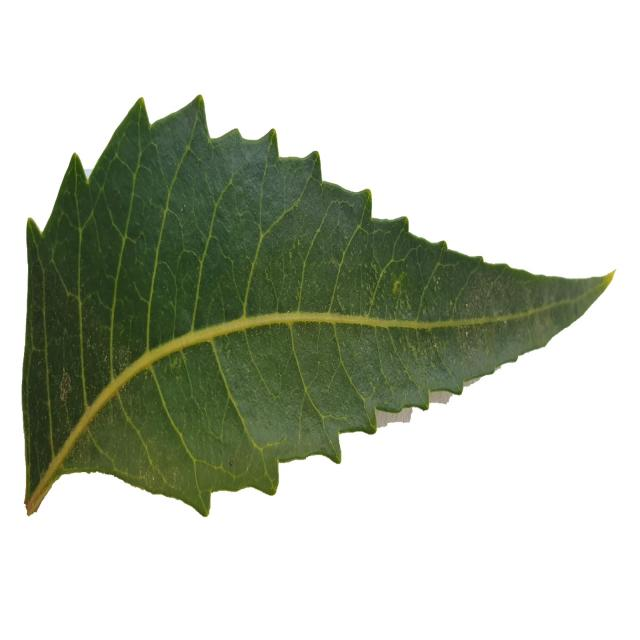Medicinal-Neem: (18, 94, 617, 516)
